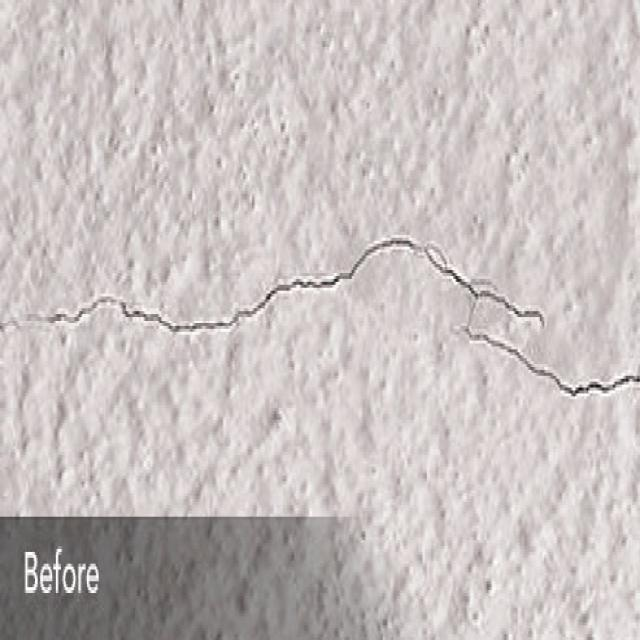Crack: (0, 229, 639, 396)
